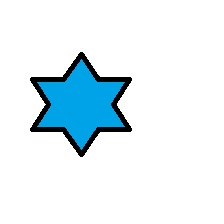star: (29, 51, 132, 158)
